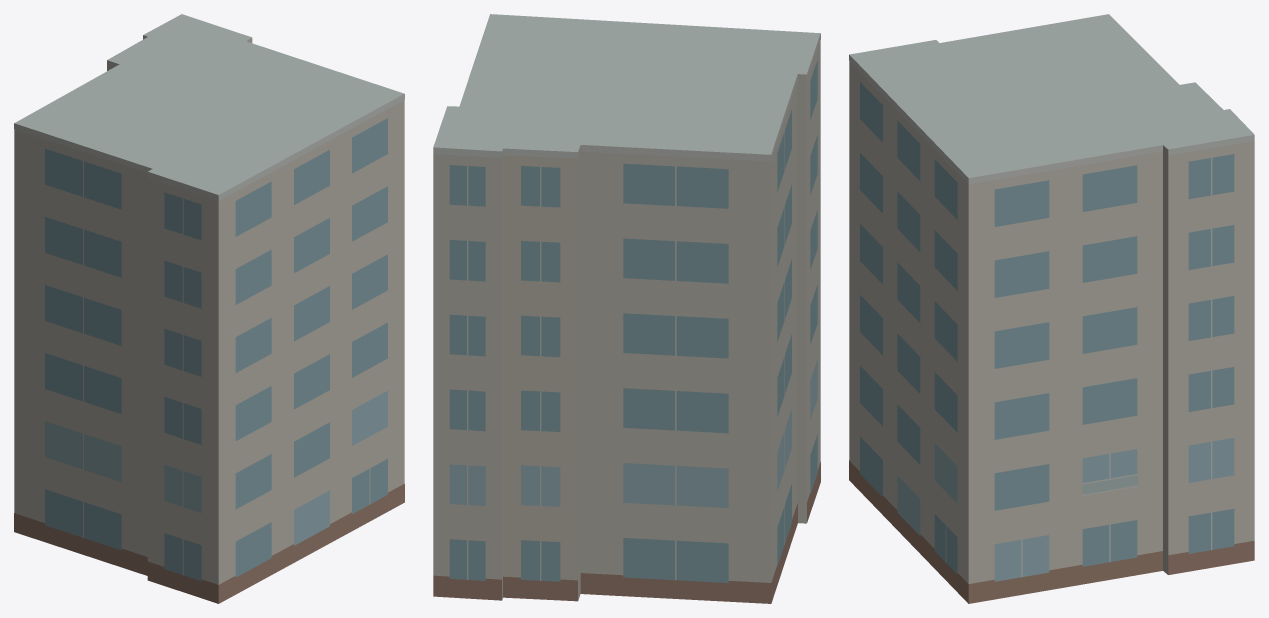
Rendered from survey-upis-32748320.glb.
3 renders of one model, left to right at view 1: azimuth 30°, elevation 25°; view 2: azimuth 150°, elevation 25°; view 3: azimuth 270°, elevation 25°, orthographic. The views are drawn at different scales.
Parts seen in each view (by area): view 1: survey-upis-32748320.tmp; view 2: survey-upis-32748320.tmp; view 3: survey-upis-32748320.tmp.
Boxes of the visible parts, bbox=[...] form: survey-upis-32748320.tmp: bbox=[14, 14, 404, 603]; survey-upis-32748320.tmp: bbox=[433, 14, 820, 603]; survey-upis-32748320.tmp: bbox=[849, 14, 1254, 603].
Bounding box in the file's own units: 13.74 × 16.6 × 14.34.
